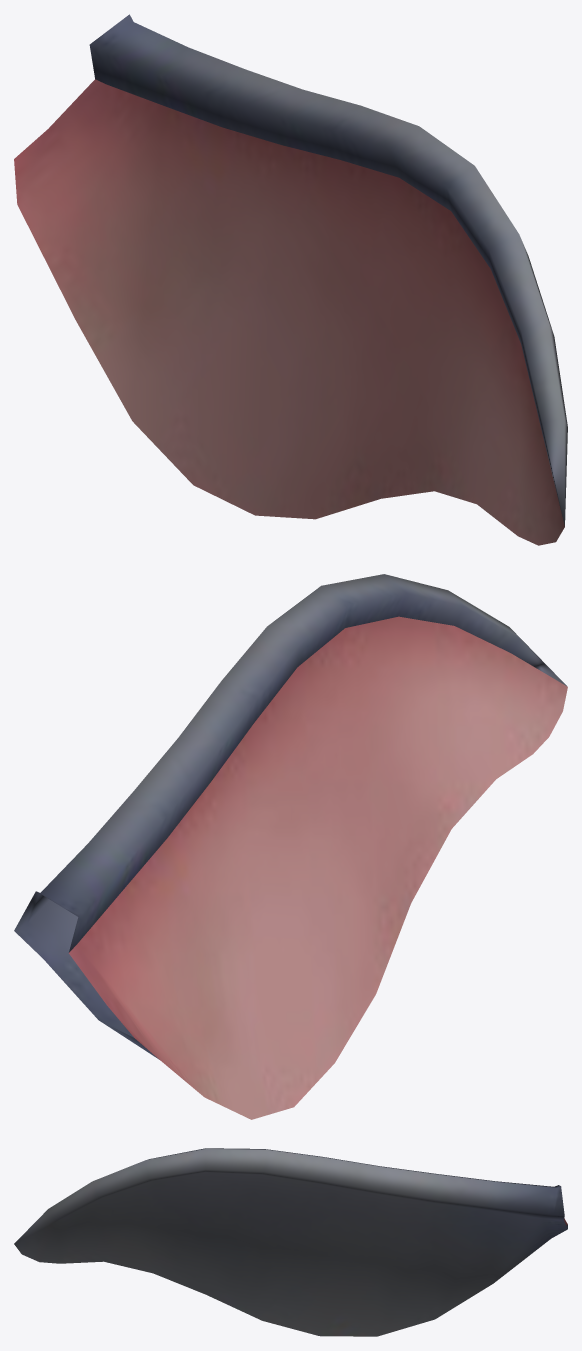
The model's file is oreja_izq_dumbo.obj.
3 renders of one model, top to bottom at view 1: azimuth 30°, elevation 25°; view 2: azimuth 150°, elevation 25°; view 3: azimuth 270°, elevation 25°, orthographic. The views are drawn at different scales.
Parts seen in each view (by area): view 1: oreja_izq_dumbo, oreja_izq_dumbo001; view 2: oreja_izq_dumbo, oreja_izq_dumbo001; view 3: oreja_izq_dumbo001.
Part boxes in pixels (x1=…): oreja_izq_dumbo: x1=14, y1=79, x2=564, y2=545; oreja_izq_dumbo001: x1=89, y1=14, x2=567, y2=526; oreja_izq_dumbo: x1=69, y1=616, x2=567, y2=1119; oreja_izq_dumbo001: x1=14, y1=574, x2=567, y2=1059; oreja_izq_dumbo001: x1=14, y1=1148, x2=567, y2=1336.
Size of the model in its own units: 0.1995 by 0.4811 by 1.09.
